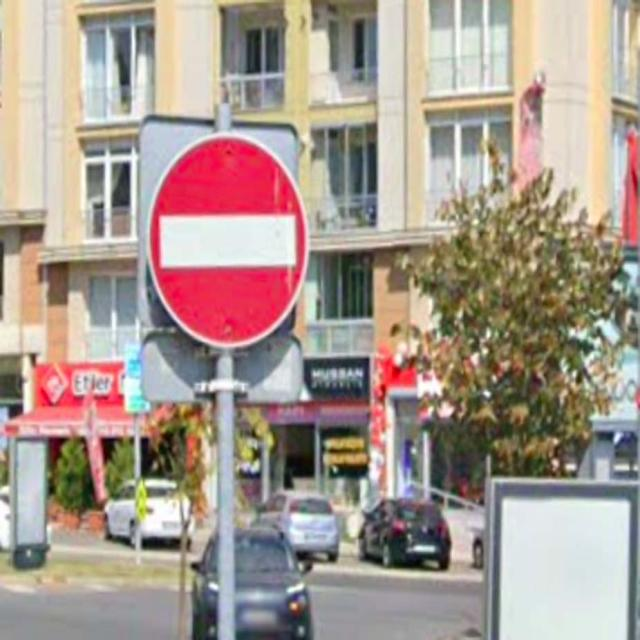girisyok: (147, 134, 307, 347)
